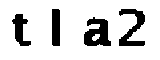2: (115, 5, 148, 49)
a: (79, 14, 111, 51)
l: (46, 4, 67, 53)
t: (8, 10, 34, 48)
